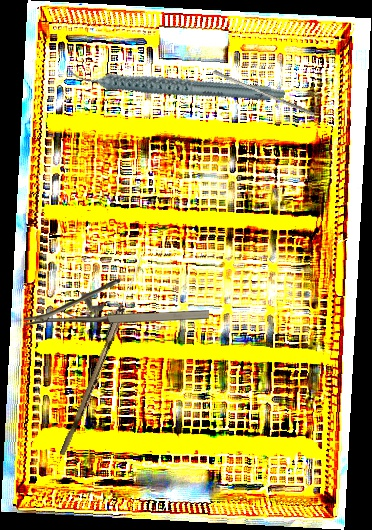Handpiece: (66, 22, 287, 144)
Needle Holder: (24, 279, 209, 325)
Pusher: (211, 69, 317, 117)
Surgical Spoon: (59, 254, 146, 458)
